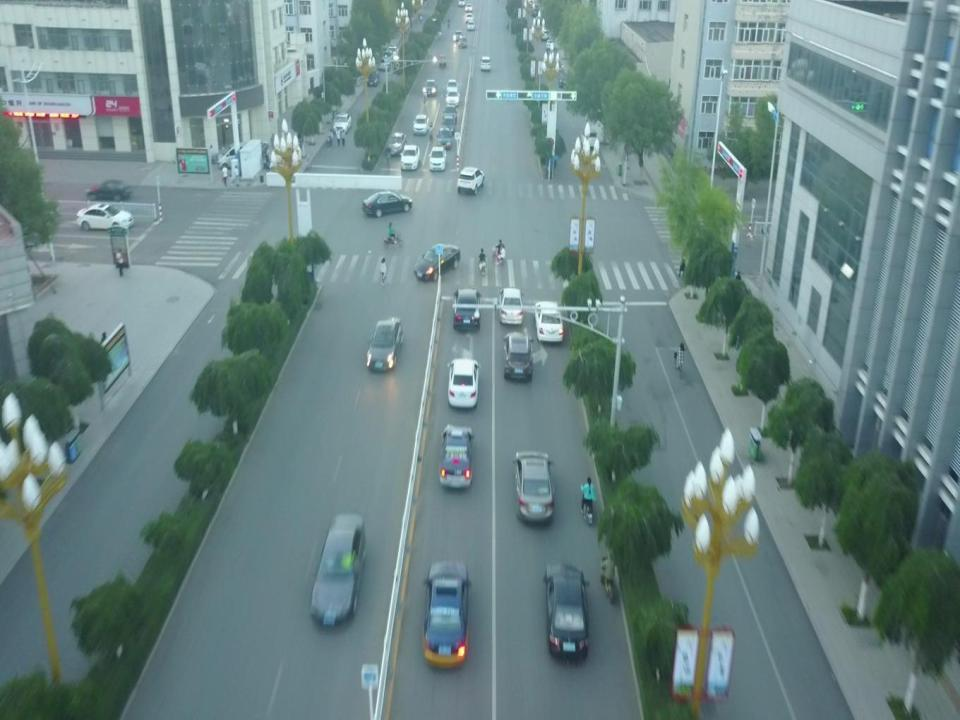car: (310, 515, 366, 626), (424, 562, 467, 666), (544, 562, 588, 662), (513, 449, 554, 524), (440, 424, 472, 490), (367, 316, 403, 373), (411, 244, 461, 280), (76, 202, 134, 232), (448, 356, 478, 409), (502, 331, 533, 381), (362, 193, 414, 217), (535, 300, 563, 344), (85, 178, 133, 201), (454, 287, 480, 329), (498, 287, 522, 325), (457, 166, 483, 194), (400, 144, 420, 169), (387, 131, 406, 156), (429, 145, 446, 171), (333, 112, 351, 134), (436, 128, 451, 150), (442, 105, 458, 125), (413, 114, 428, 135), (581, 129, 597, 147), (442, 115, 454, 136), (446, 88, 460, 106), (366, 70, 380, 86), (423, 79, 436, 95), (446, 79, 459, 94), (558, 74, 570, 88), (480, 56, 491, 70), (379, 58, 390, 70), (454, 30, 463, 41), (458, 38, 467, 48), (466, 12, 473, 24), (467, 21, 475, 31), (546, 39, 554, 49), (534, 15, 541, 25), (465, 3, 472, 12), (540, 33, 549, 40), (532, 7, 538, 17), (422, 95, 427, 106), (458, 0, 465, 6)
truck: (382, 45, 399, 62)
van: (217, 141, 260, 167)
